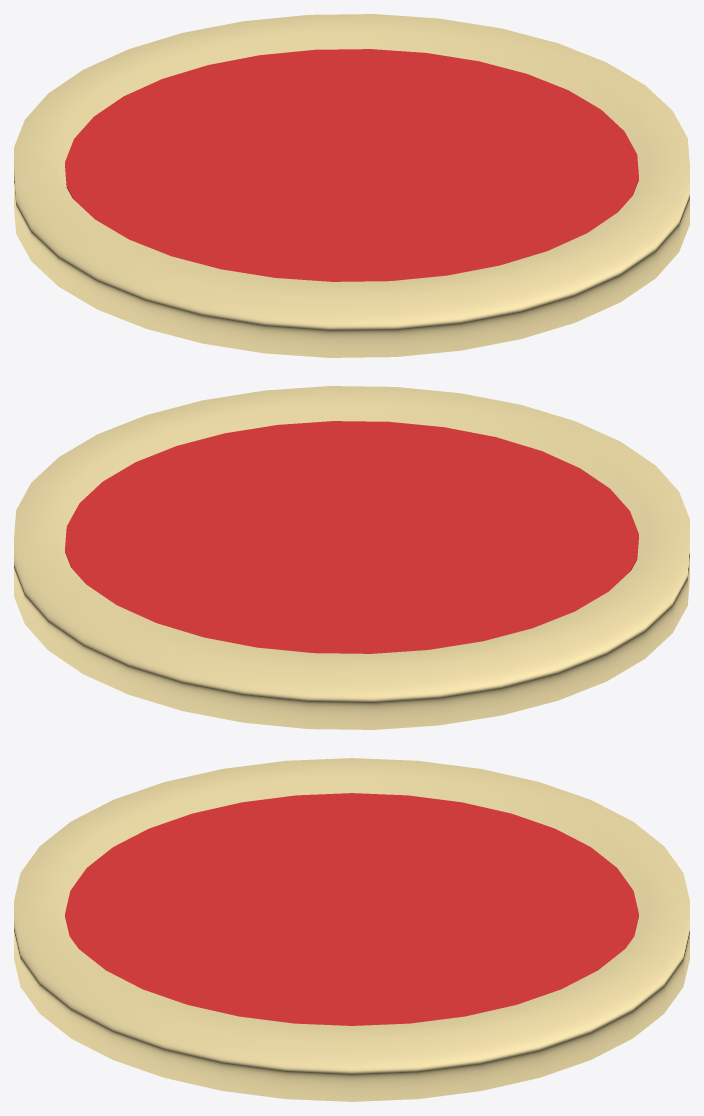
Rendered from FlattenedDoughSauce.glb.
3 renders of one model, top to bottom at view 1: azimuth 30°, elevation 25°; view 2: azimuth 150°, elevation 25°; view 3: azimuth 270°, elevation 25°, orthographic.
Visible parts, largest first — view 1: Sauce, Dough; view 2: Sauce, Dough; view 3: Sauce, Dough.
Boxes of the visible parts, x1=… form: Sauce: x1=65, y1=49, x2=638, y2=281; Dough: x1=14, y1=14, x2=689, y2=357; Sauce: x1=65, y1=421, x2=638, y2=653; Dough: x1=14, y1=386, x2=689, y2=729; Sauce: x1=65, y1=793, x2=638, y2=1025; Dough: x1=14, y1=758, x2=689, y2=1101.
Bounding box in the file's own units: 2 × 0.1899 × 2.
